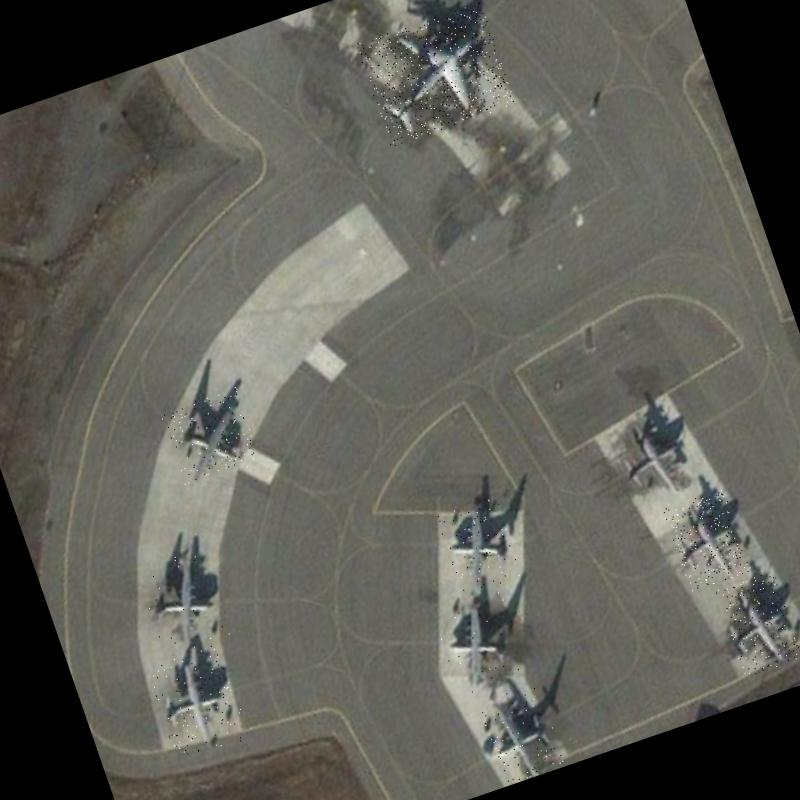A2: (145, 644, 251, 764), (132, 541, 235, 662), (430, 588, 530, 698), (159, 386, 263, 488), (606, 404, 700, 508), (662, 489, 752, 592), (478, 682, 566, 786), (715, 570, 800, 677), (435, 494, 524, 596)
A3: (356, 1, 516, 147)
